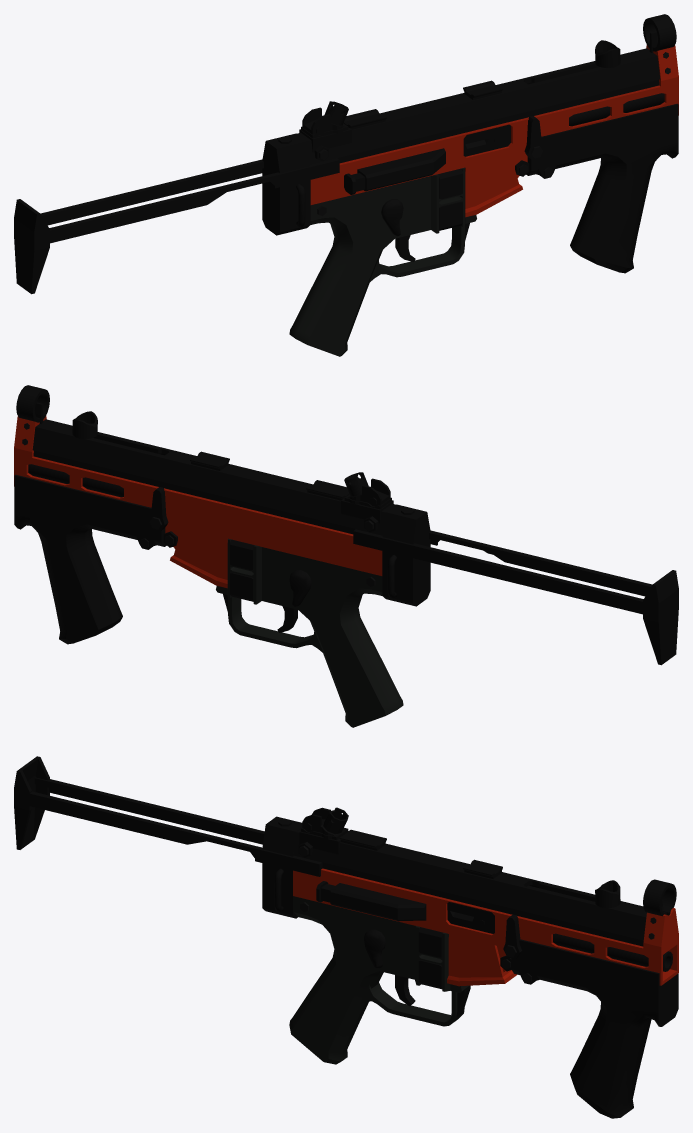
Rendered from hksmgii.fbx.
3 views of the same model, one above another, from view 1: azimuth 30°, elevation 25°; view 2: azimuth 150°, elevation 25°; view 3: azimuth 330°, elevation 25° (orthographic).
Visible parts, largest first — view 1: polySurface5; view 2: polySurface5; view 3: polySurface5.
Part boxes in pixels (x1,y1,x2,y2): polySurface5: [14, 14, 678, 356]; polySurface5: [14, 385, 678, 727]; polySurface5: [14, 756, 678, 1118].
Size of the model in its own units: 131 by 49.92 by 11.2.
